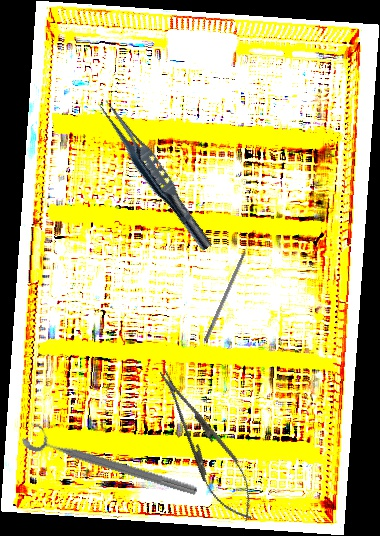Fixation Ring: (19, 420, 203, 500)
Hook Surgical: (203, 236, 255, 343)
Needle Holder: (144, 360, 268, 530)
Tissue Forceps: (92, 96, 219, 254)
